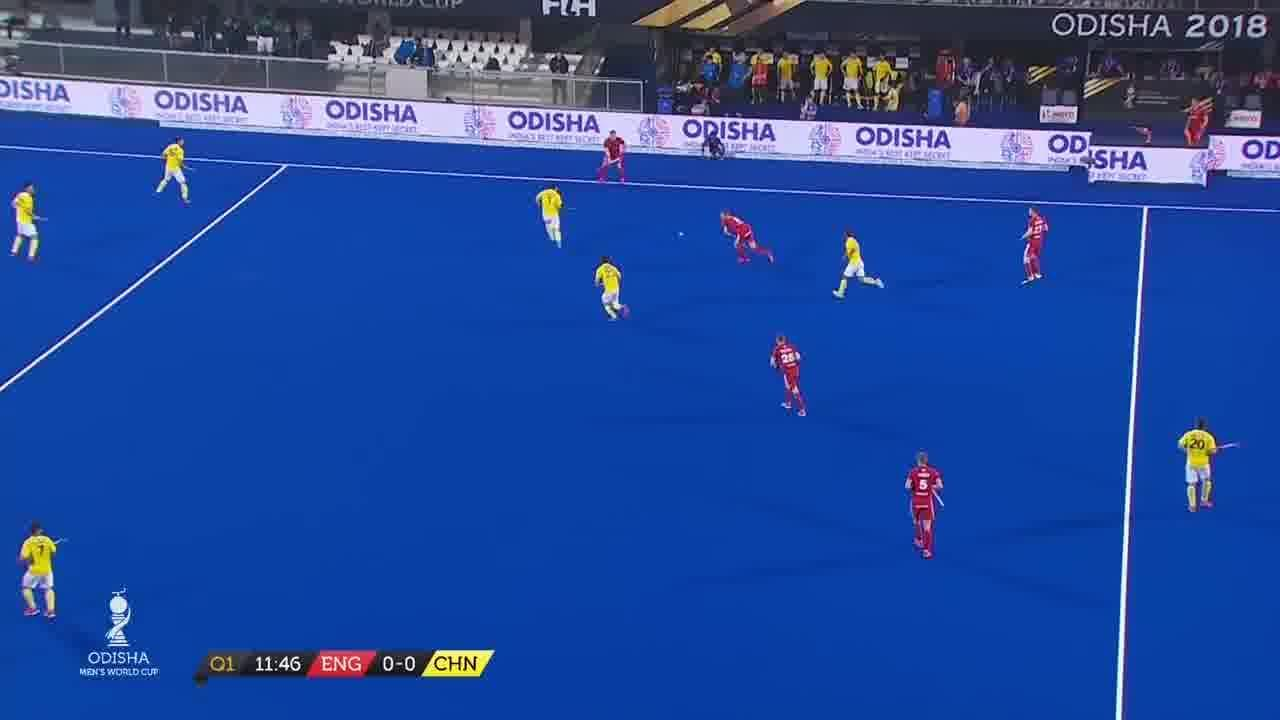ball: (674, 228, 690, 238)
